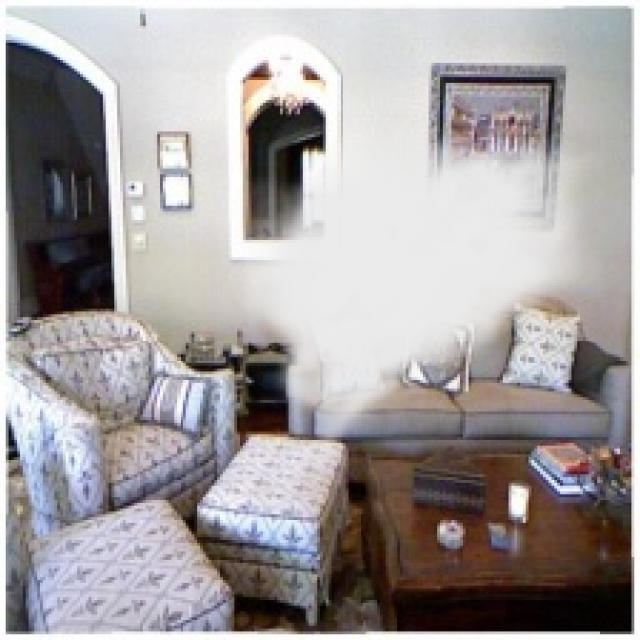Smoke: (232, 114, 608, 483)
